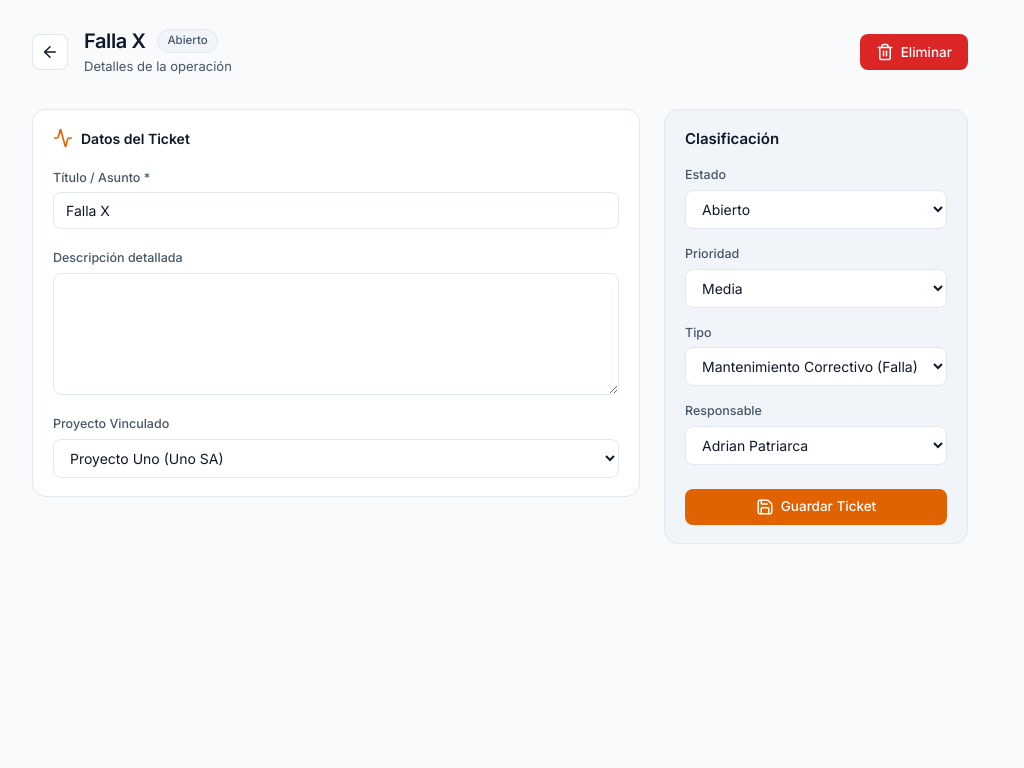
it: TicketDetalle — pantalla › el aviso de guardado desaparece al volver a editar
This screenshot has width=1024, height=768.
Click the button "Guardar Ticket" at (816, 507), box [685,489,947,525]
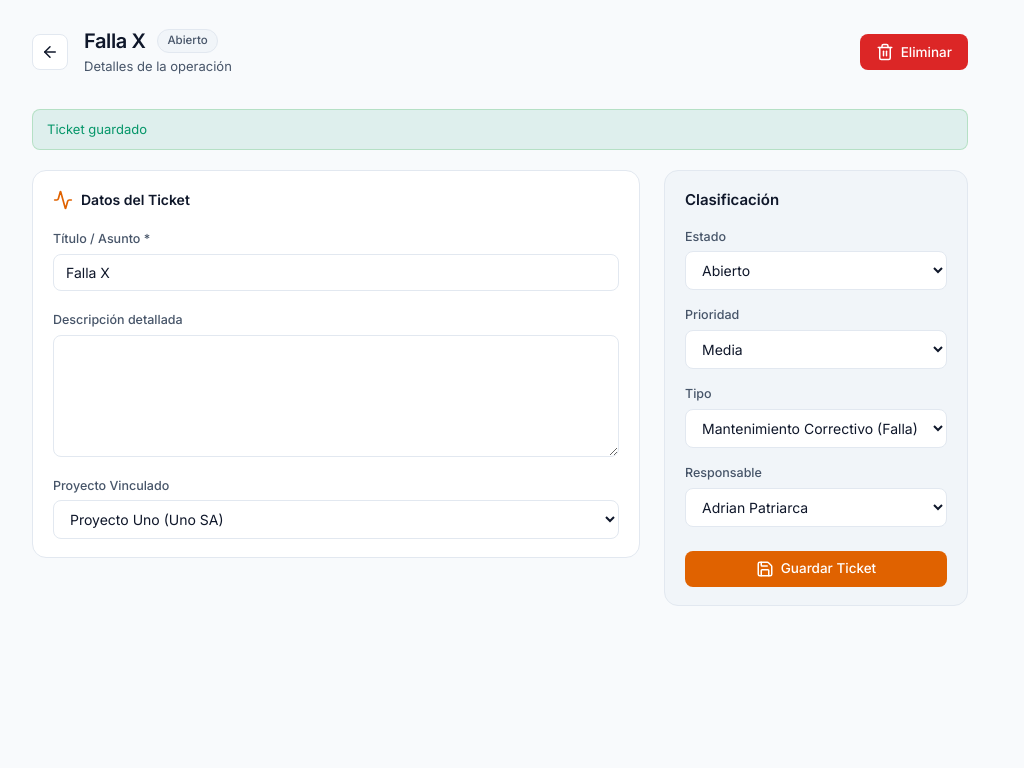
Check: the text "Ticket guardado" is shown, box [32,108,968,150]
Replace the text in the field showing "Falla X" with "Falla Y" at (336, 272), box [53,254,619,291]
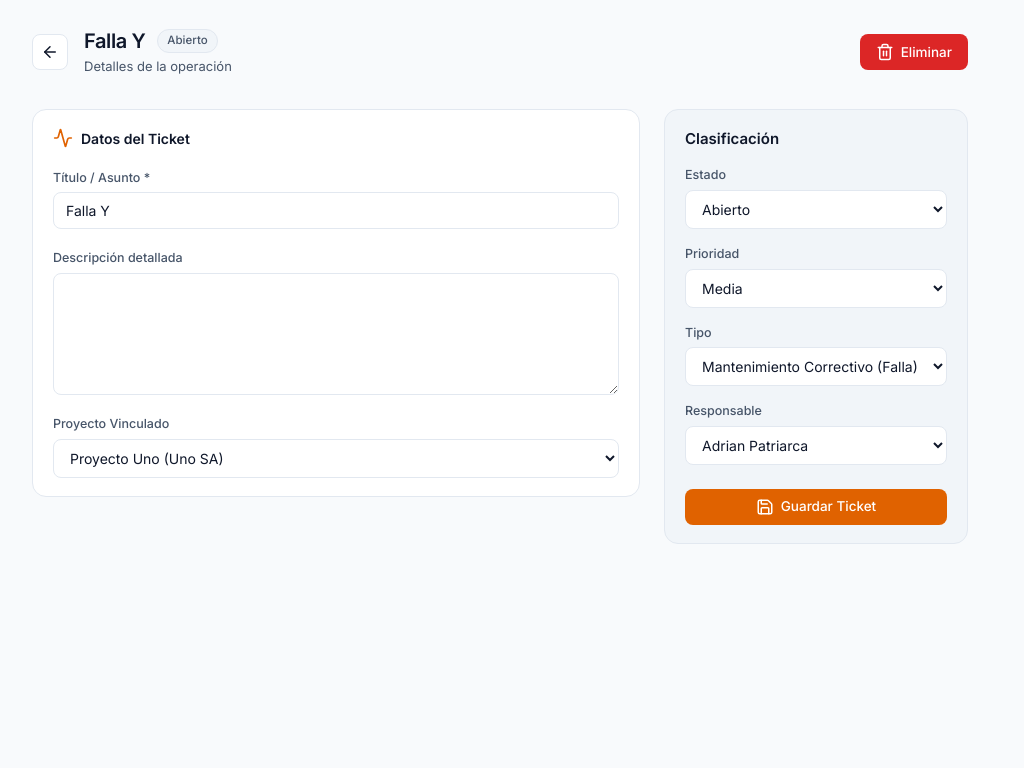
Check: the text "Ticket guardado" is gone
